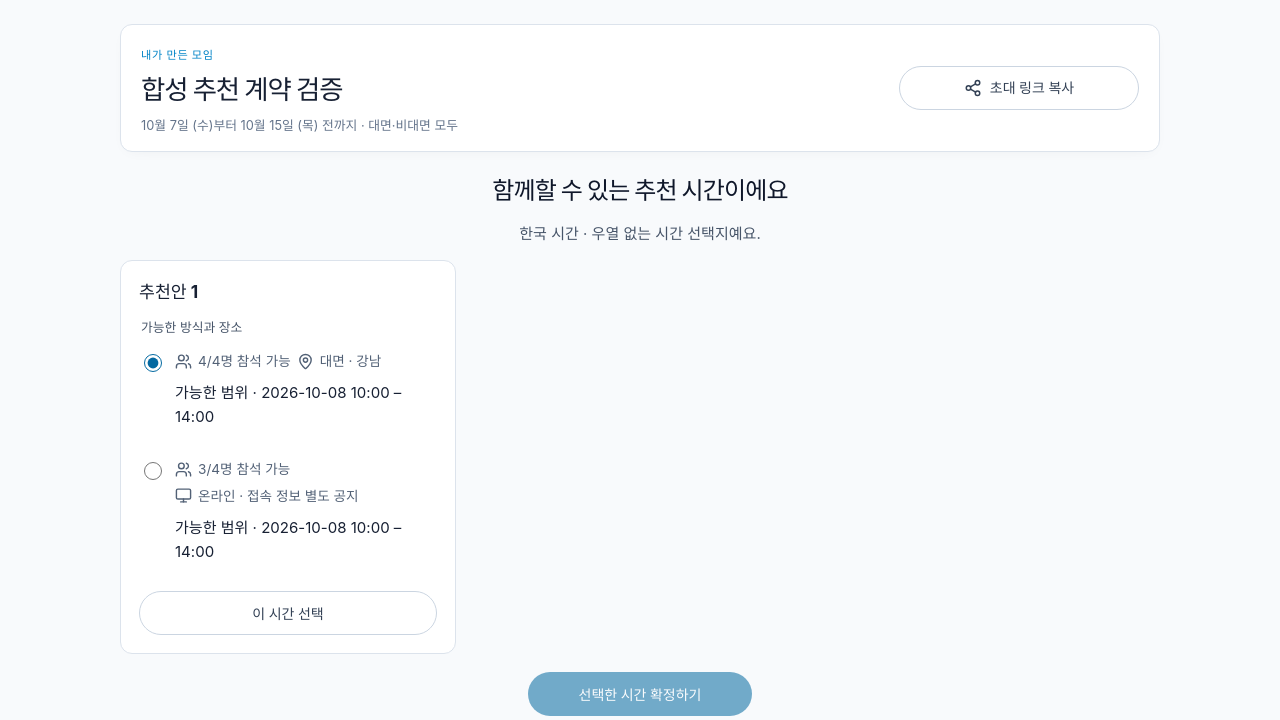
it: #19 native confirmation and saved selection › sends the exact analysis/variant/user-selected instants and renders the typed confirmed result
Click the radio button labelled "온라인": x=153, y=471 [144,462,162,480]
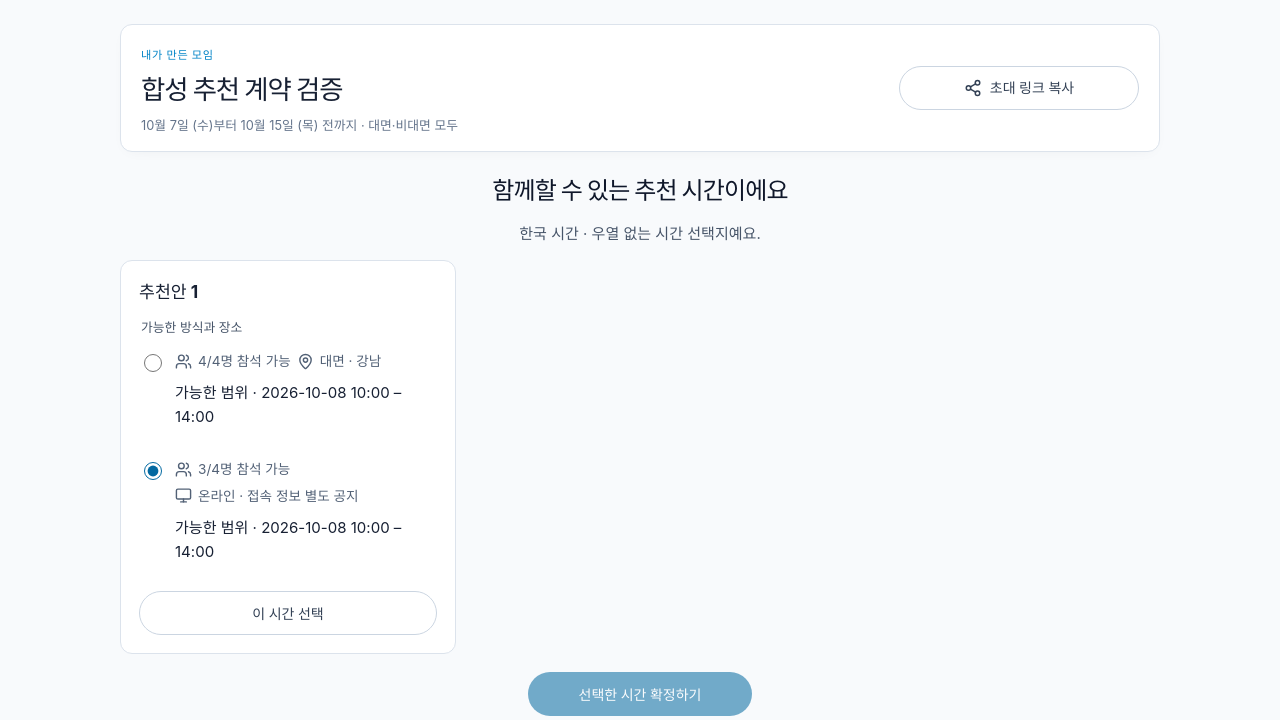
Click the button "이 시간 선택": x=288, y=613 [139,591,437,635]
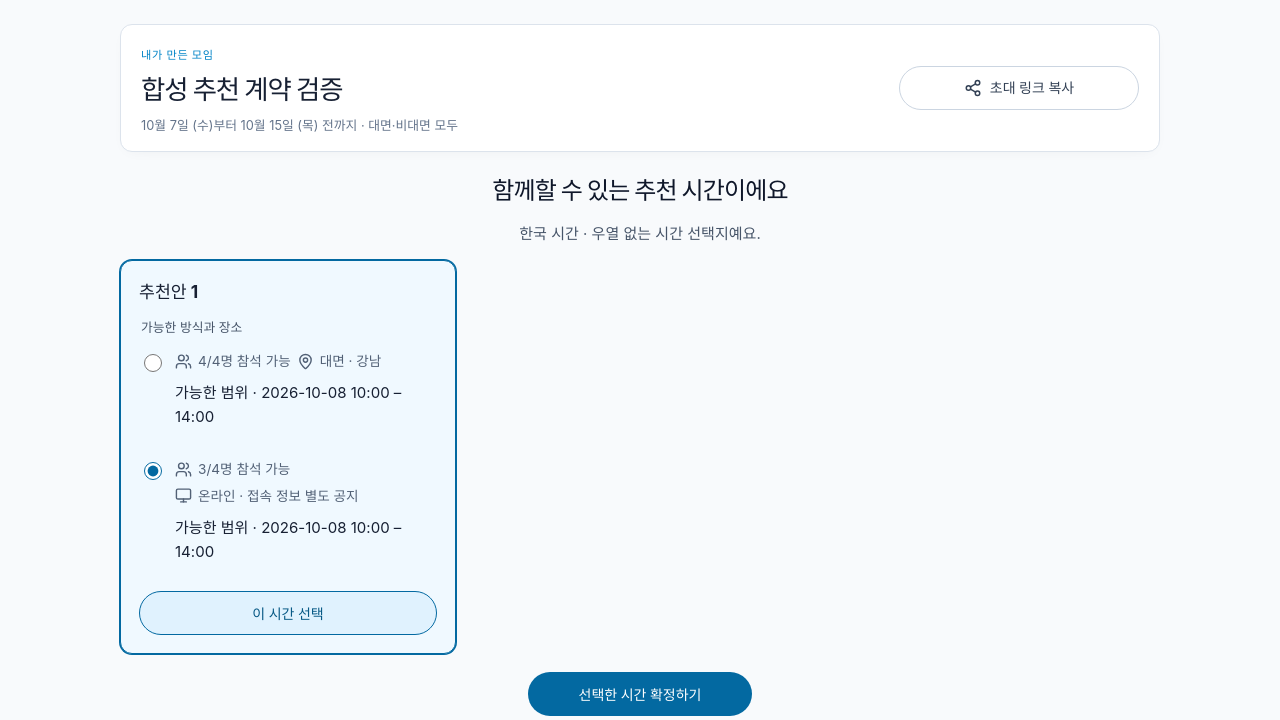
Click the button "선택한 시간 확정하기": x=640, y=694 [528,672,752,716]
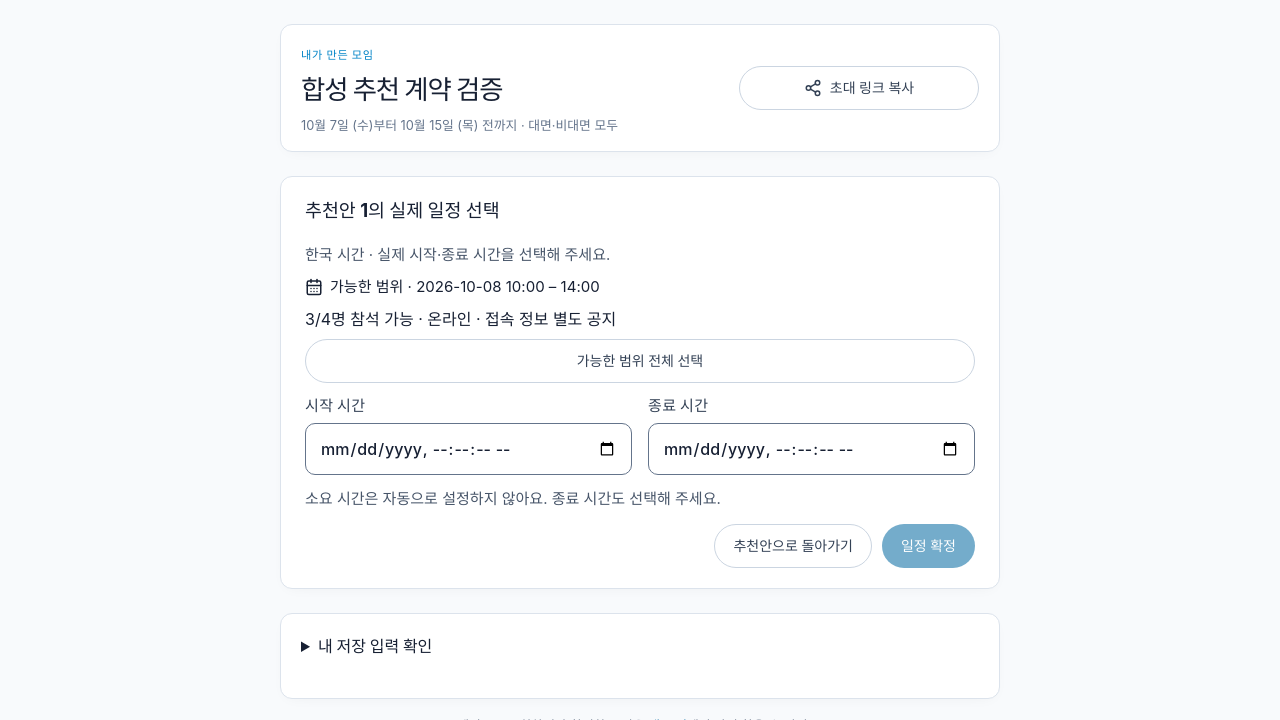
In the field labelled "시작 시간": x=468, y=450 [305,424,632,476], type "2026-10-08T10:30"
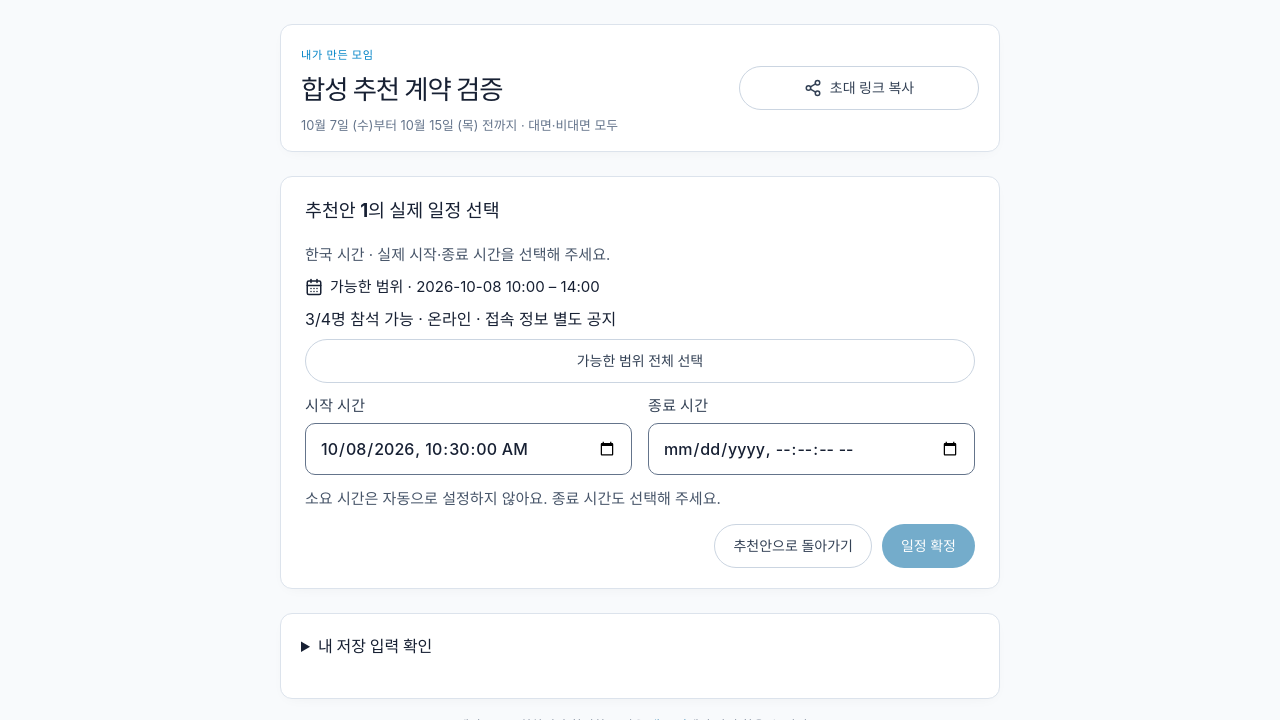
In the field labelled "종료 시간": x=812, y=450 [648,424,975,476], type "2026-10-08T11:15"
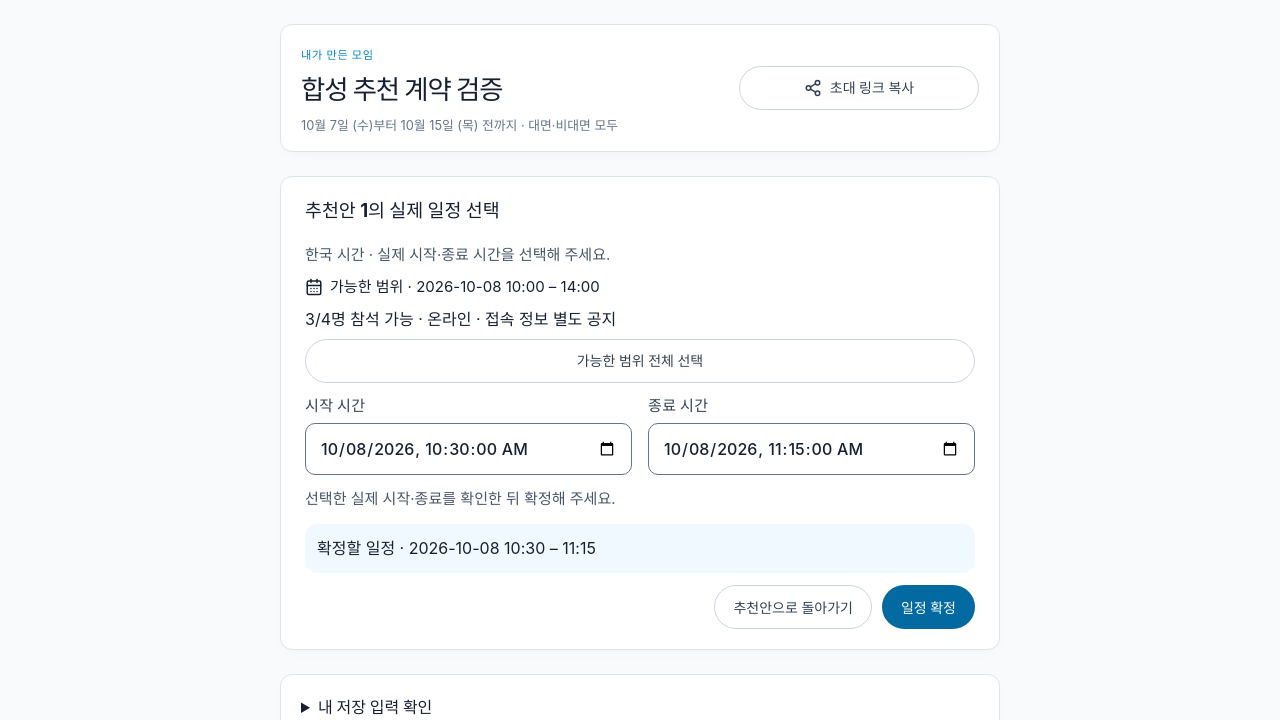
Click the button "일정 확정": x=928, y=607 [882,585,975,629]
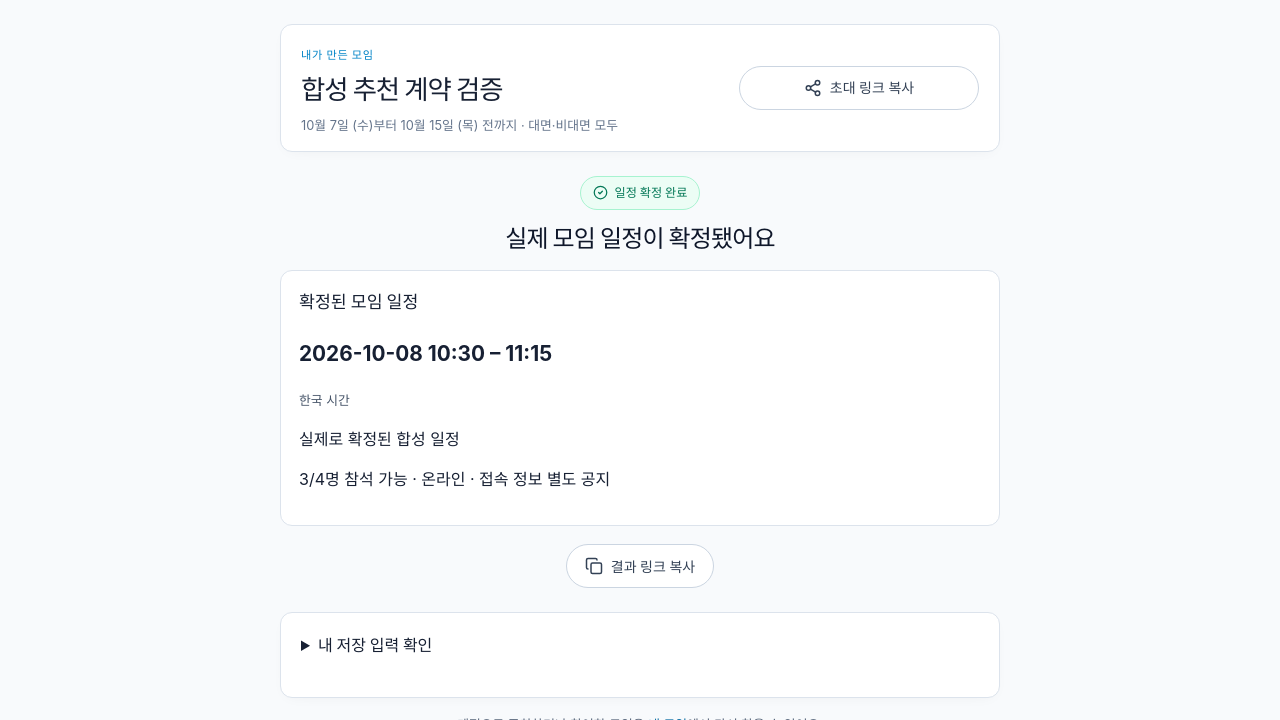
Now the heading "실제 모임 일정이 확정됐어요" is shown, box [505,224,775,253]
Now the element named "확정된 모임 일정" shows "10:30", box [299,341,552,366]
Now the element named "확정된 모임 일정" shows "11:15", box [299,341,552,366]
